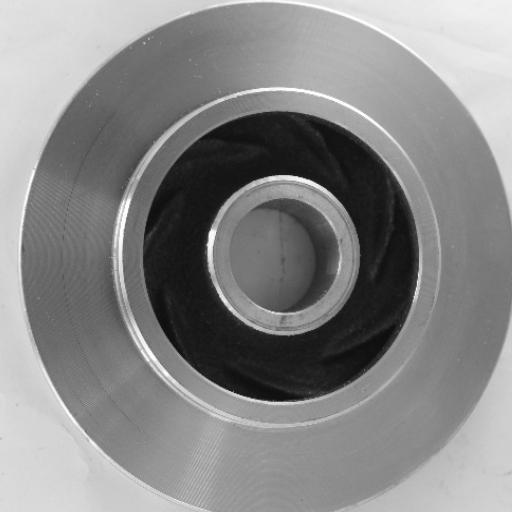polished_casting: (19, 4, 512, 512)
